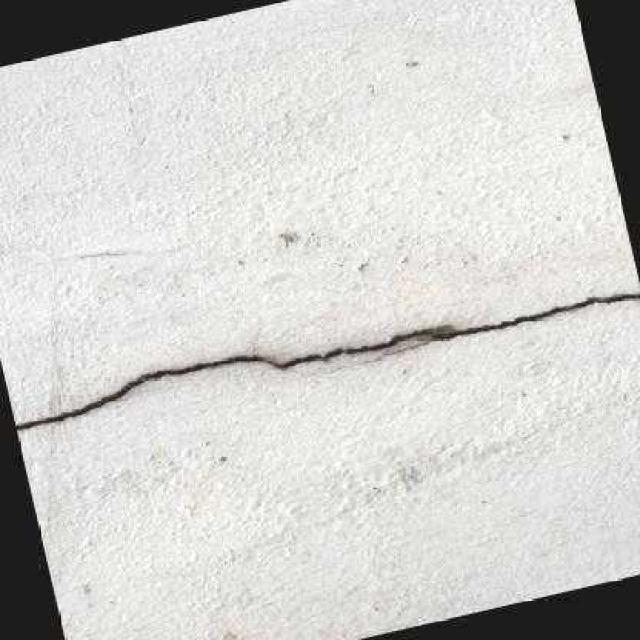D00: (16, 291, 640, 431)
